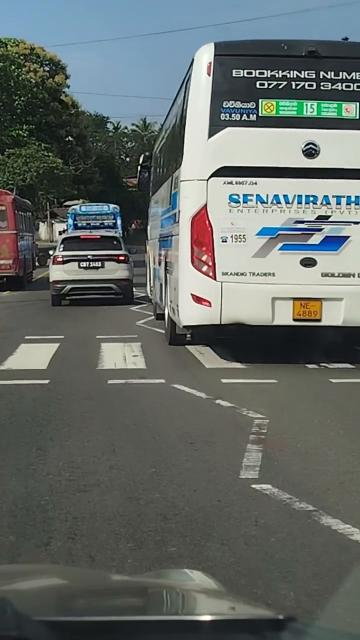illegal overtaking: (138, 9, 360, 357)
number plate: (290, 291, 331, 326)
